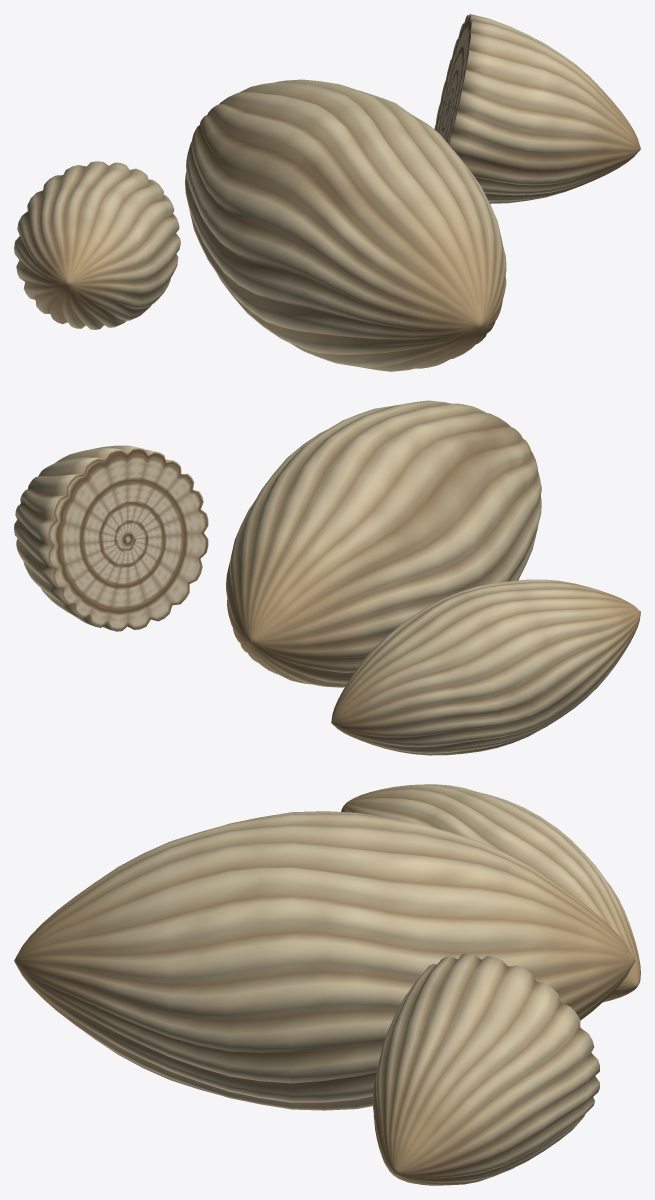
Rendered from SchwagerinaHessensis.fbx.
The picture shows the model from 3 angles, top to bottom: view 1: azimuth 30°, elevation 25°; view 2: azimuth 150°, elevation 25°; view 3: azimuth 270°, elevation 25°; orthographic projection. The views are drawn at different scales.
Visible parts, largest first — view 1: SchwagerinaHessensis; view 2: SchwagerinaHessensis; view 3: SchwagerinaHessensis.
Part boxes in pixels (x1,y1,x2,y2): SchwagerinaHessensis: (14, 14, 640, 371); SchwagerinaHessensis: (14, 400, 640, 755); SchwagerinaHessensis: (14, 784, 640, 1185).
Bounding box in the file's own units: 2.12 × 0.7946 × 1.66.
